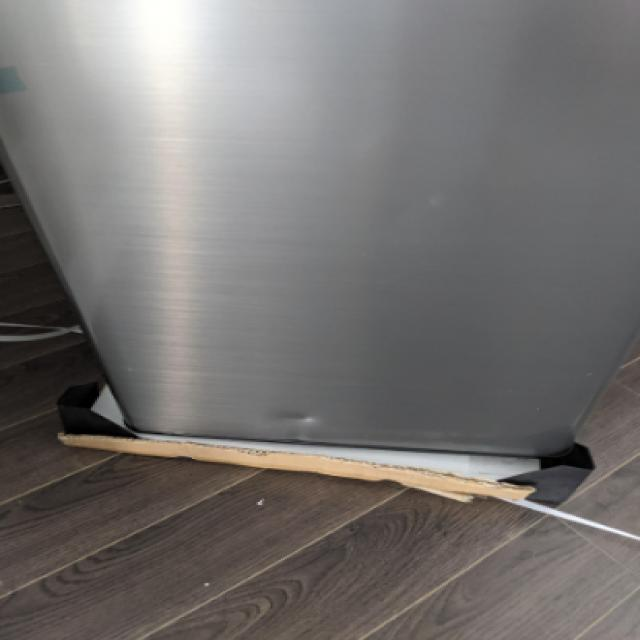dents: (255, 402, 356, 437)
